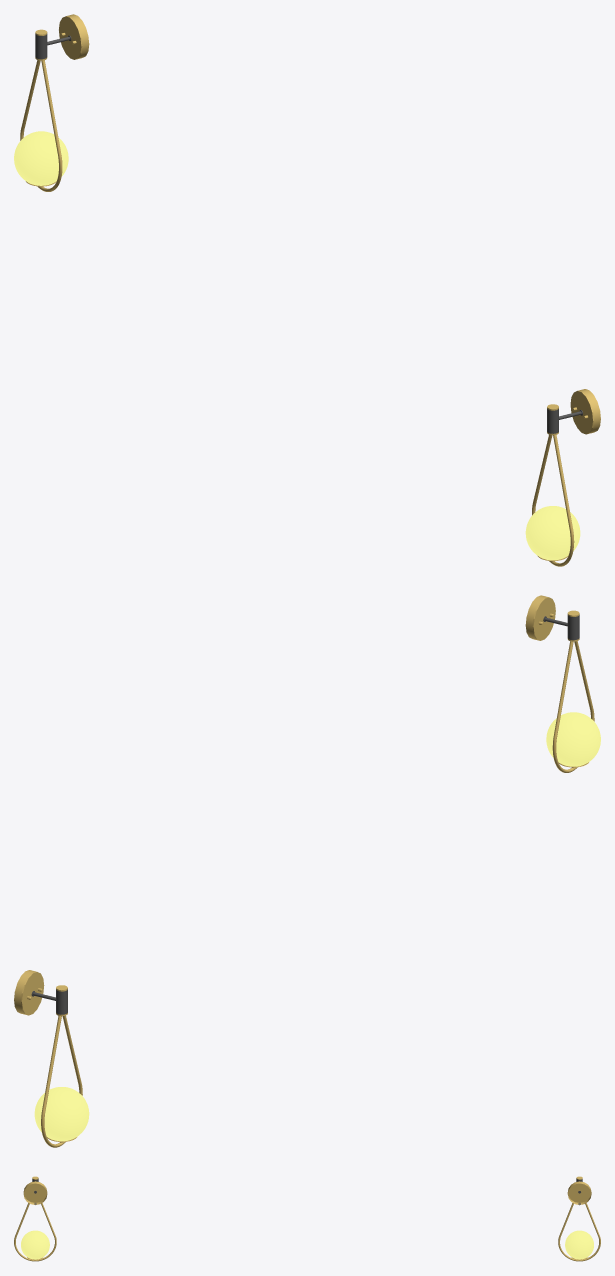
Rendered from Left_Wall_Lamp1.glb.
3 views of the same model, one above another, from view 1: azimuth 30°, elevation 25°; view 2: azimuth 150°, elevation 25°; view 3: azimuth 270°, elevation 25° (orthographic). The views are drawn at different scales.
Visible parts, largest first — view 1: Lamp (×2); view 2: Lamp (×2); view 3: Lamp (×2).
Boxes of the visible parts, x1,y1,x2,y2 form: Lamp (×2): (14, 14, 600, 566); Lamp (×2): (14, 595, 600, 1147); Lamp (×2): (14, 1176, 600, 1261).
Size of the model in its own units: 0.1912 by 0.4965 by 3.02.
